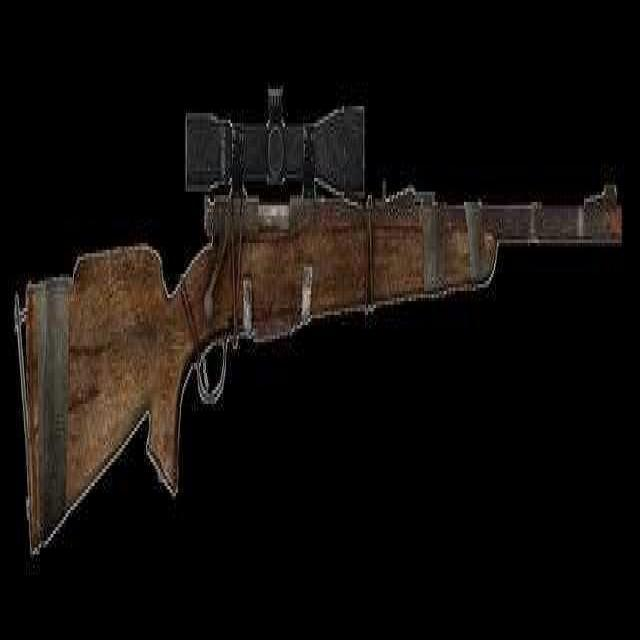Rifle: (17, 21, 633, 613)
